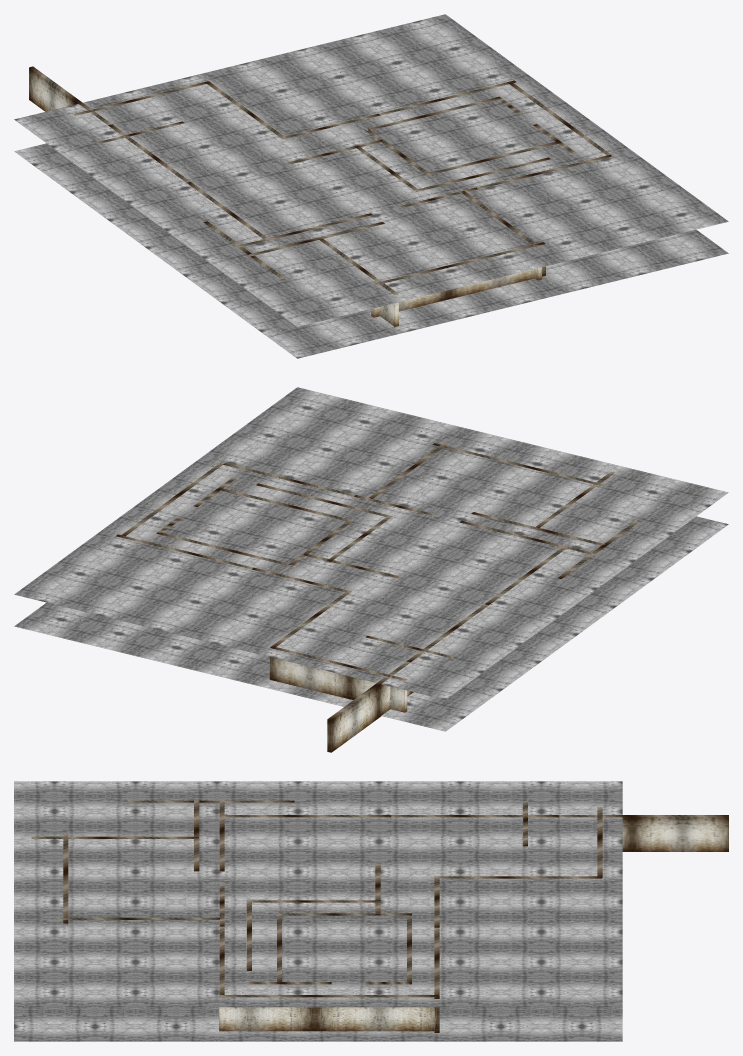
The picture shows the model from 3 angles, top to bottom: view 1: azimuth 30°, elevation 25°; view 2: azimuth 150°, elevation 25°; view 3: azimuth 270°, elevation 25°; orthographic projection. The views are drawn at different scales.
Visible parts, largest first — view 1: Ceiling, Floor, Wall.023, Wall.024, Wall.022; view 2: Ceiling, Floor, Wall.017, Wall.024; view 3: Ceiling, Floor, Wall.005, Wall.024, Wall.020, Wall.023, Wall.013, Wall.006, Wall.022, Wall.021, Wall.018, Wall.015.
Part boxes in pixels (x1,y1,x2,y2): Ceiling: (14, 14, 728, 326); Floor: (14, 143, 728, 358); Wall.023: (371, 242, 545, 317); Wall.024: (29, 66, 112, 124); Wall.022: (317, 238, 398, 326); Ceiling: (14, 387, 728, 699); Floor: (14, 516, 728, 731); Wall.017: (270, 647, 407, 712); Wall.024: (327, 661, 410, 752); Ceiling: (14, 781, 622, 1007); Floor: (14, 1007, 622, 1041); Wall.005: (219, 995, 438, 1031); Wall.024: (558, 815, 728, 851); Wall.020: (434, 927, 439, 1032); Wall.023: (63, 833, 68, 923); Wall.013: (220, 815, 391, 817); Wall.006: (388, 815, 559, 817); Wall.022: (31, 836, 198, 838); Wall.021: (57, 917, 223, 919); Wall.018: (435, 876, 601, 878); Wall.015: (127, 800, 294, 802).
Bounding box in the file's own units: 63.86 × 4.6 × 85.34.
3 materials, 3 textured.
